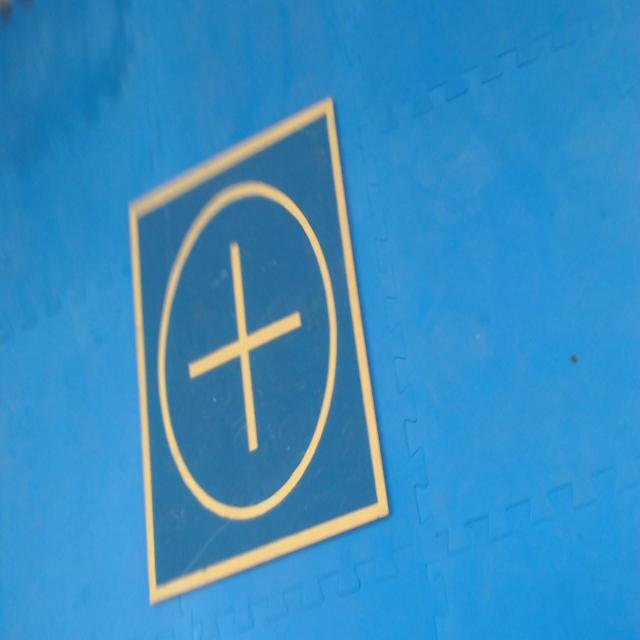base_pouso: (130, 94, 390, 607)
